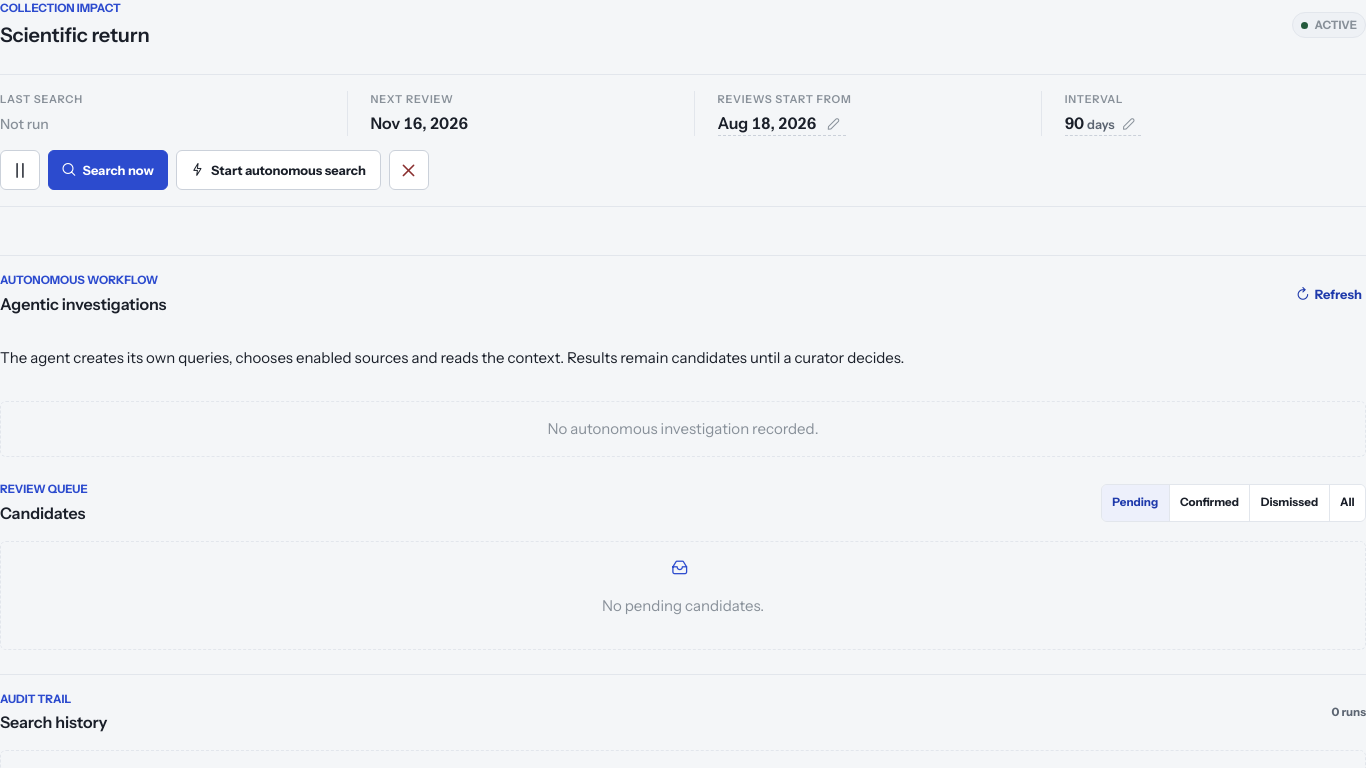
Scenario: ScientificReturnPanelComponent › leaves the watch untouched when the confirmation is cancelled
Click the button named "Close monitoring" at {"x": 408, "y": 170}, box [388,150,428,190]
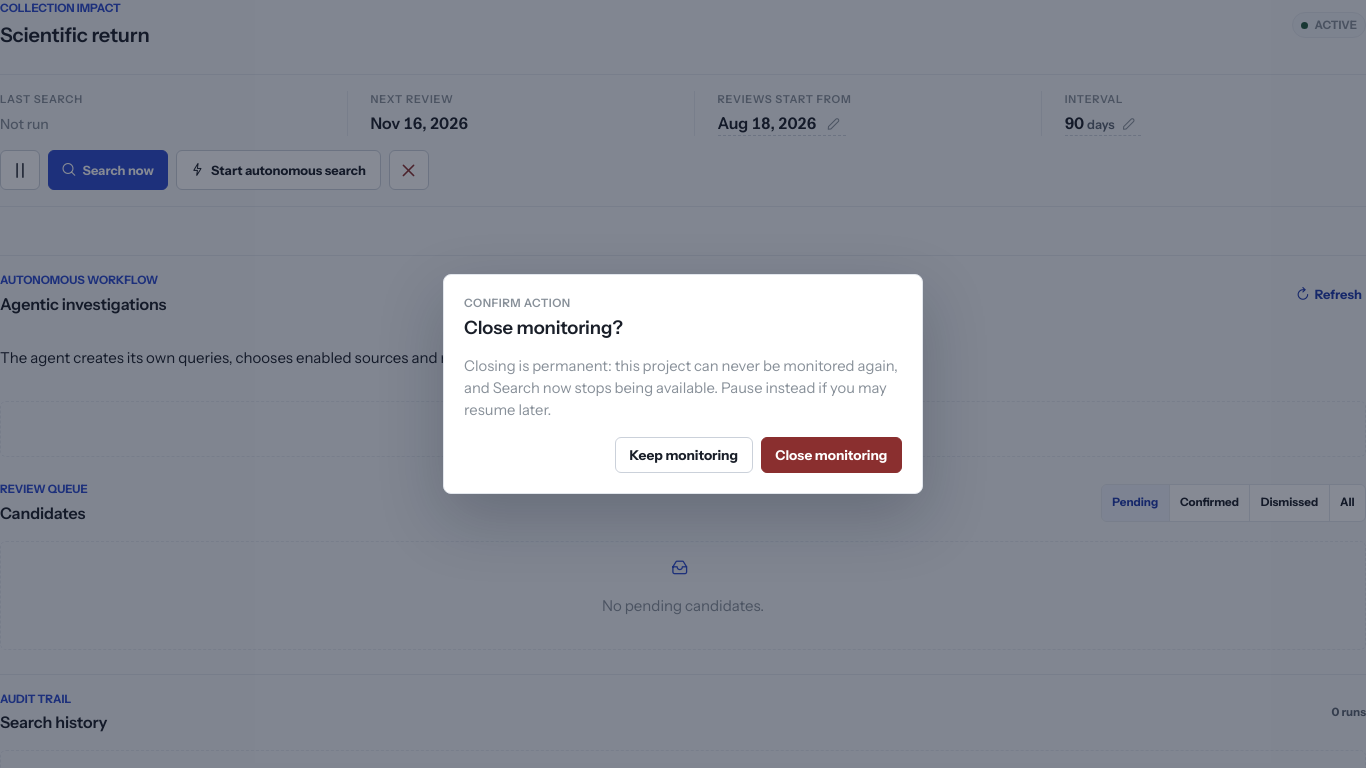
Click the button "Keep monitoring" at {"x": 684, "y": 455}, box [615,437,753,473]
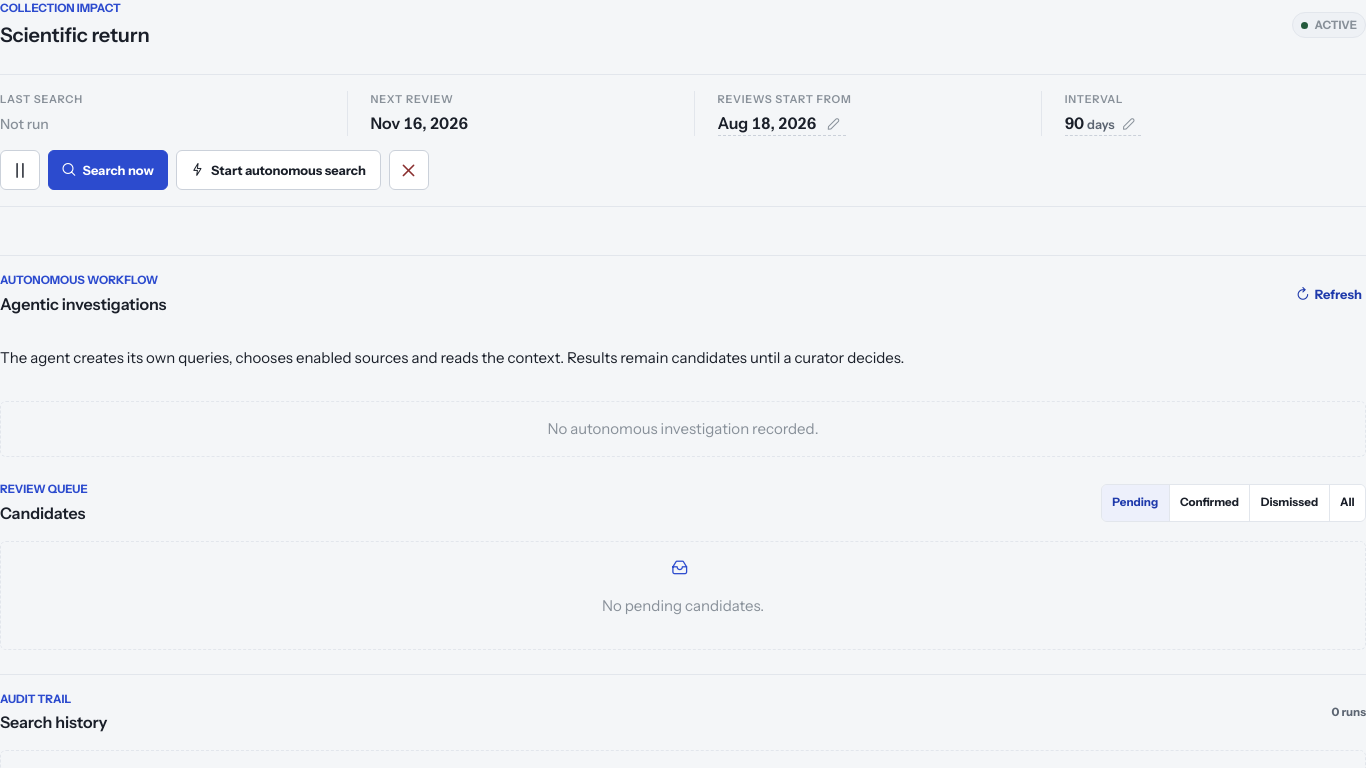
expect the button named "Close monitoring" is shown: met, box [388,150,428,190]
expect the dialog is gone: met
